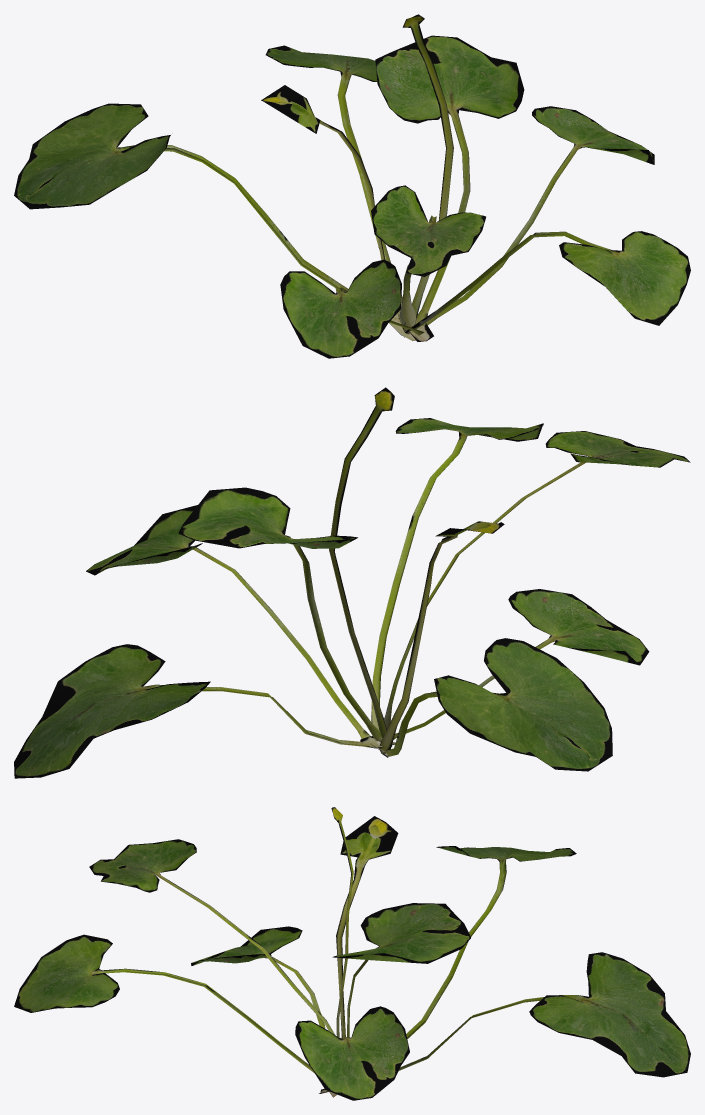
File: Planta_2.glb
The picture shows the model from 3 angles, top to bottom: view 1: azimuth 30°, elevation 25°; view 2: azimuth 150°, elevation 25°; view 3: azimuth 270°, elevation 25°; orthographic projection. The views are drawn at different scales.
Visible parts, largest first — view 1: Planta 2; view 2: Planta 2; view 3: Planta 2.
Boxes of the visible parts, box(x1,y1,x2,y2) form: Planta 2: box(14, 14, 690, 358); Planta 2: box(14, 387, 690, 778); Planta 2: box(14, 807, 690, 1100).
Size of the model in its own units: 0.4531 by 0.2602 by 0.552.
Materials: 1 (1 with a texture image).
